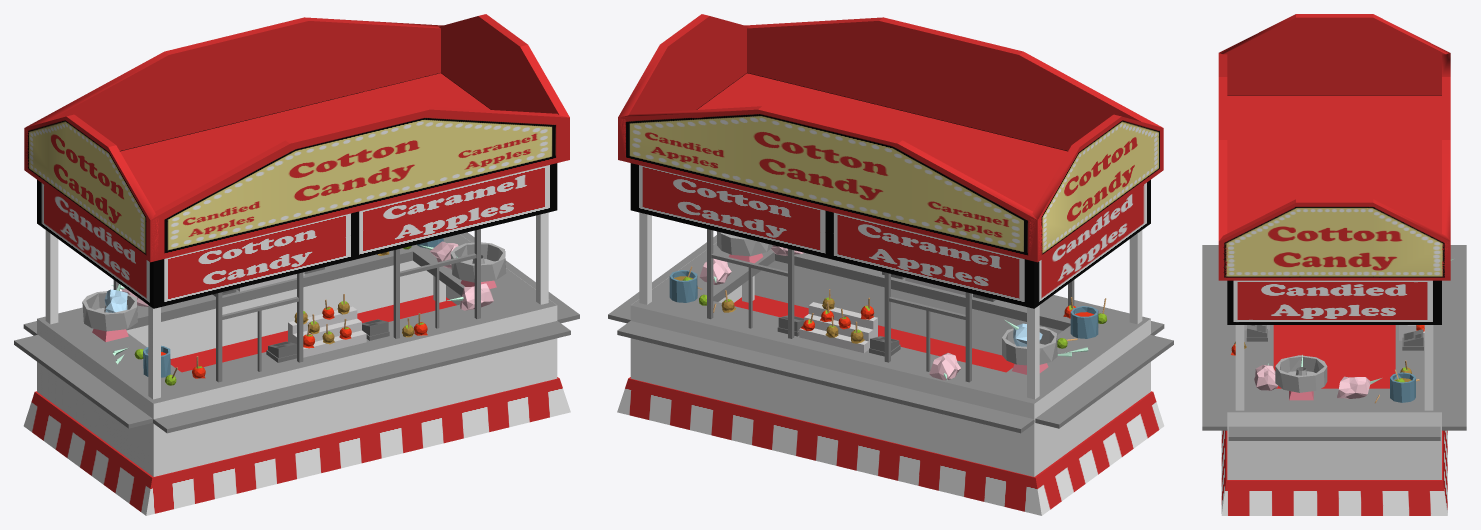
Rendered from cotton-candy-stall.glb.
3 renders of one model, left to right at view 1: azimuth 30°, elevation 25°; view 2: azimuth 150°, elevation 25°; view 3: azimuth 270°, elevation 25°, orthographic. The views are drawn at different scales.
Parts seen in each view (by area): view 1: Cube.006, Cube, Cube.001, Cube.019, Cylinder.001, Cube.028, Cone.004, Cylinder; view 2: Cube.006, Cube, Cube.001, Cube.019, Cylinder.001, Cube.028, Cone.004, Cylinder, Cylinder.002, Cylinder.003; view 3: Cube.006, Cube, Cube.001, Cube.019, Cylinder.001, Cone.004, Cylinder.003, Cube.002, Cube.003.
Part boxes in pixels (x1,y1,x2,y2): Cube.006: (24, 14, 569, 262); Cube: (37, 73, 557, 476); Cube.001: (23, 295, 570, 515); Cube.019: (14, 229, 579, 433); Cylinder.001: (82, 242, 506, 342); Cube.028: (236, 272, 366, 357); Cone.004: (104, 241, 493, 364); Cylinder: (192, 251, 427, 378); Cube.006: (618, 14, 1163, 262); Cube: (630, 73, 1150, 476); Cube.001: (617, 295, 1164, 515); Cube.019: (608, 229, 1173, 433); Cylinder.001: (717, 231, 1057, 374); Cube.028: (799, 277, 972, 352); Cone.004: (699, 245, 1088, 380); Cylinder: (721, 289, 1075, 343); Cylinder.002: (1070, 306, 1098, 338); Cylinder.003: (669, 270, 697, 302); Cube.006: (1218, 14, 1450, 280); Cube: (1227, 95, 1441, 479); Cube.001: (1221, 325, 1447, 515); Cube.019: (1202, 245, 1466, 440); Cylinder.001: (1275, 355, 1327, 400); Cone.004: (1254, 259, 1453, 398); Cylinder.003: (1390, 372, 1415, 402); Cube.002: (1402, 329, 1423, 350); Cube.003: (1246, 325, 1267, 341).
Size of the model in its own units: 0.5228 by 0.3751 by 0.288.
12 materials, 12 textured.
